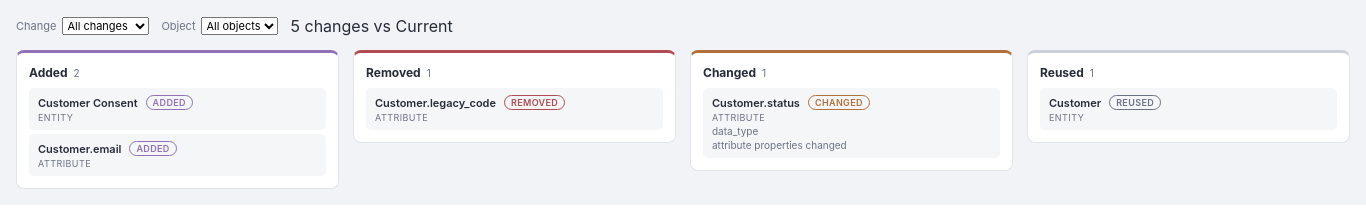
Scenario: InformationImpactView › filters by change type
Select "Added (1)" in the dropdown named "Filter by change type" at (106, 26), box [62,17,149,35]
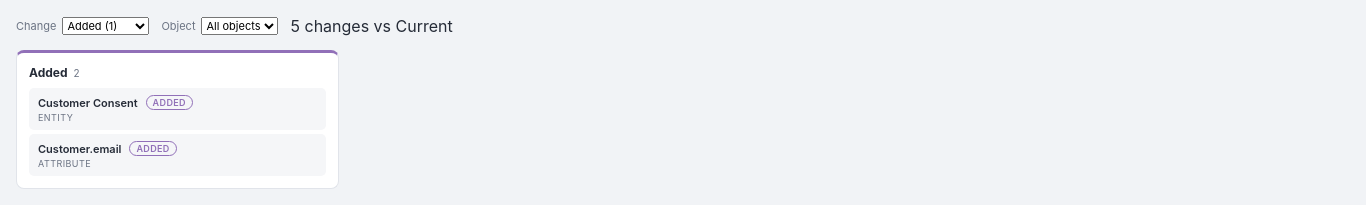
Expected: the text "Customer Consent" is shown, [38,96,138,110]
Expected: the button "legacy_code" is gone
